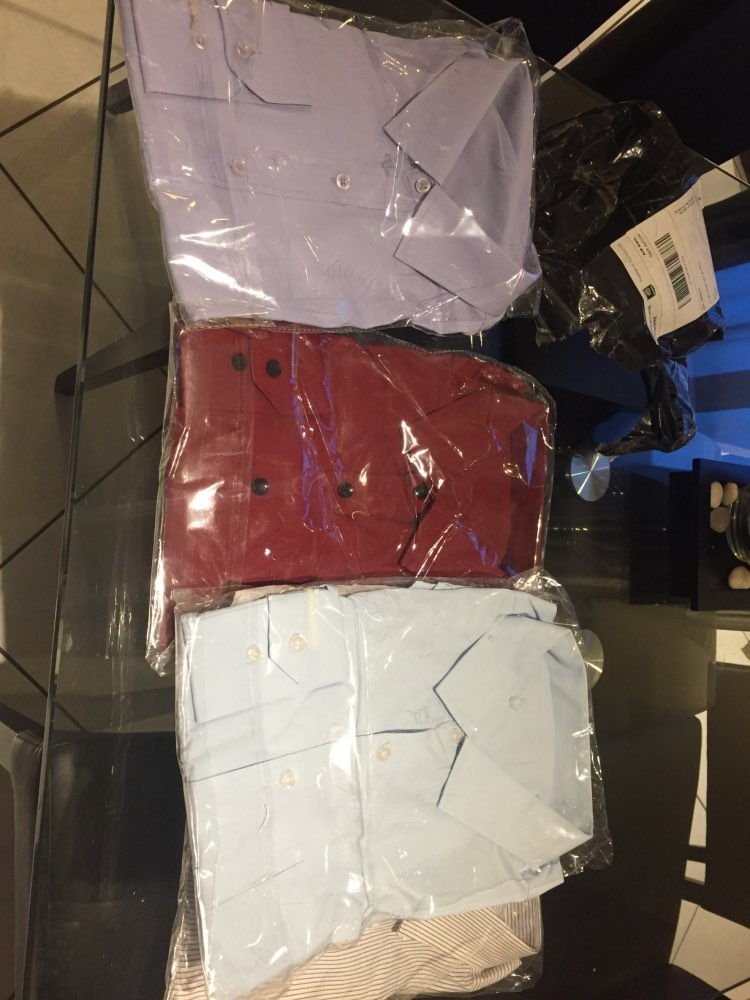shirts: (164, 573, 599, 928), (131, 6, 521, 349), (133, 318, 548, 628)
